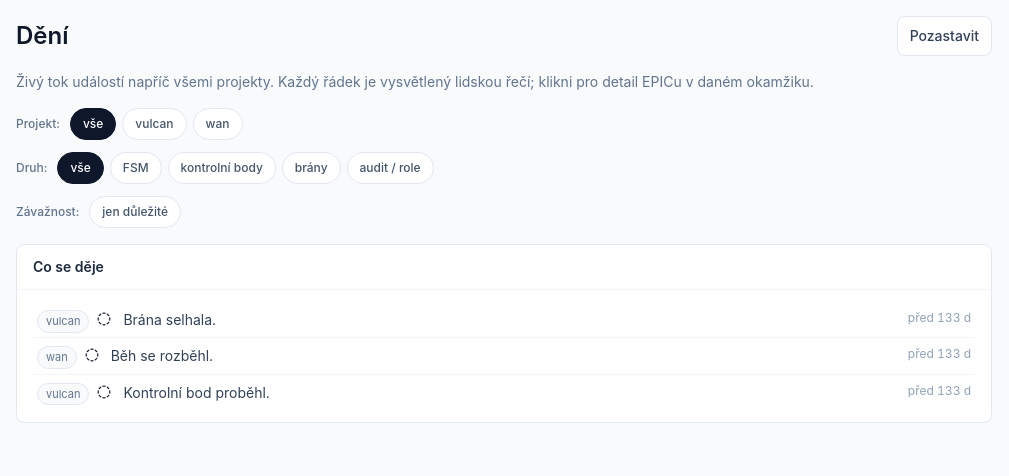
Test: ScreenD — merged live activity stream › pause FREEZES the visible list — new poll results buffer but do NOT render until unpause
Expected: the list is shown, [33,302,975,410]
Expected: the number of links is 3, [33,302,975,337]; [33,338,975,374]; [33,374,975,410]
Click the button "Pozastavit". click: (944, 36)
box: [897,16,992,56]
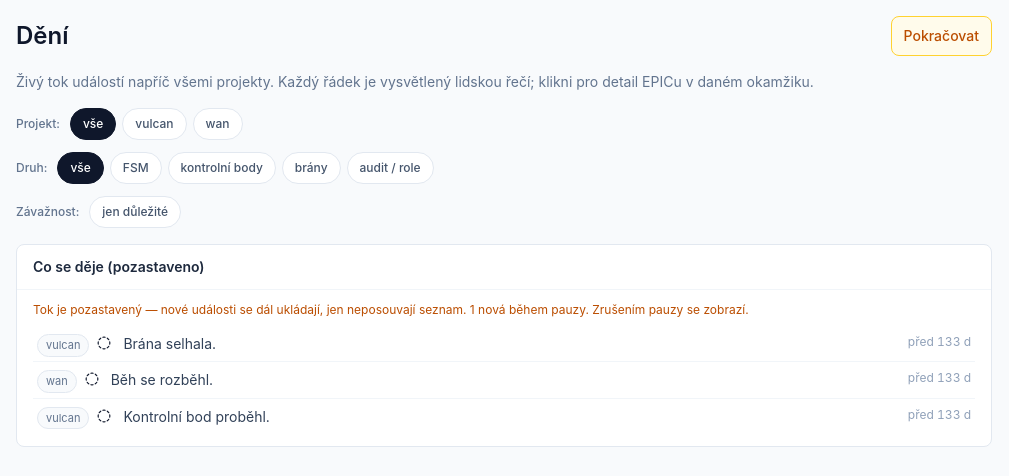
Expected: the number of links is 3, [33,326,975,361]; [33,362,975,398]; [33,398,975,434]
Expected: the text "1 nová během pauzy." is shown, [466,302,589,317]
Unpausing releases the buffer: the new event now renders (4 rows).
Click the button "Pokračovat". click: (941, 36)
box: [891,16,992,56]
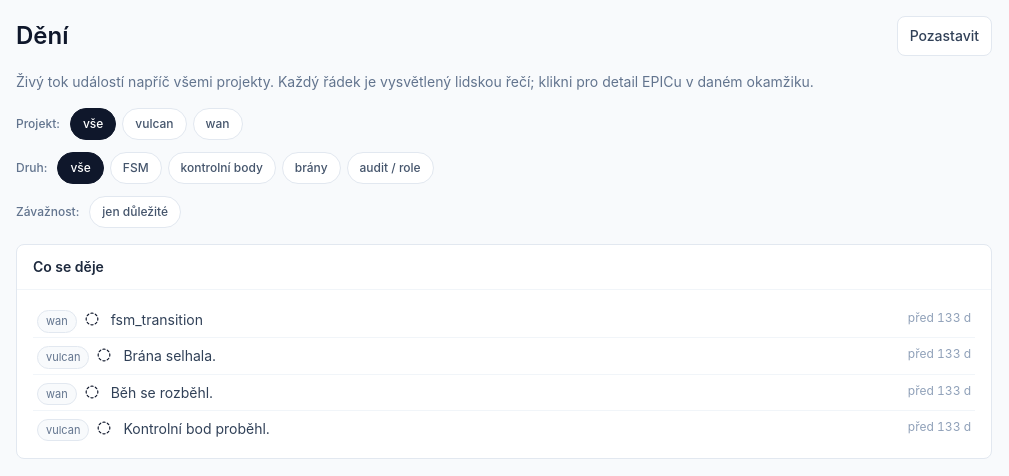
Expected: the number of links is 4, [33,302,975,337]; [33,338,975,374]; [33,374,975,410]; [33,411,975,446]
